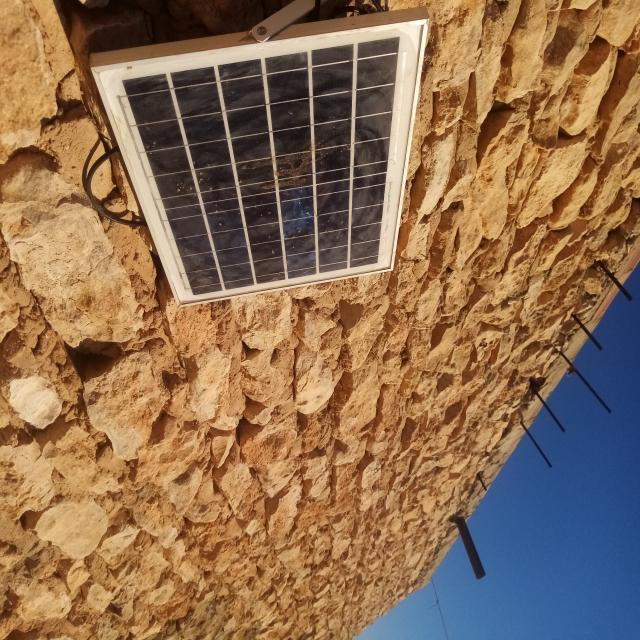faulty: (94, 22, 425, 314)
